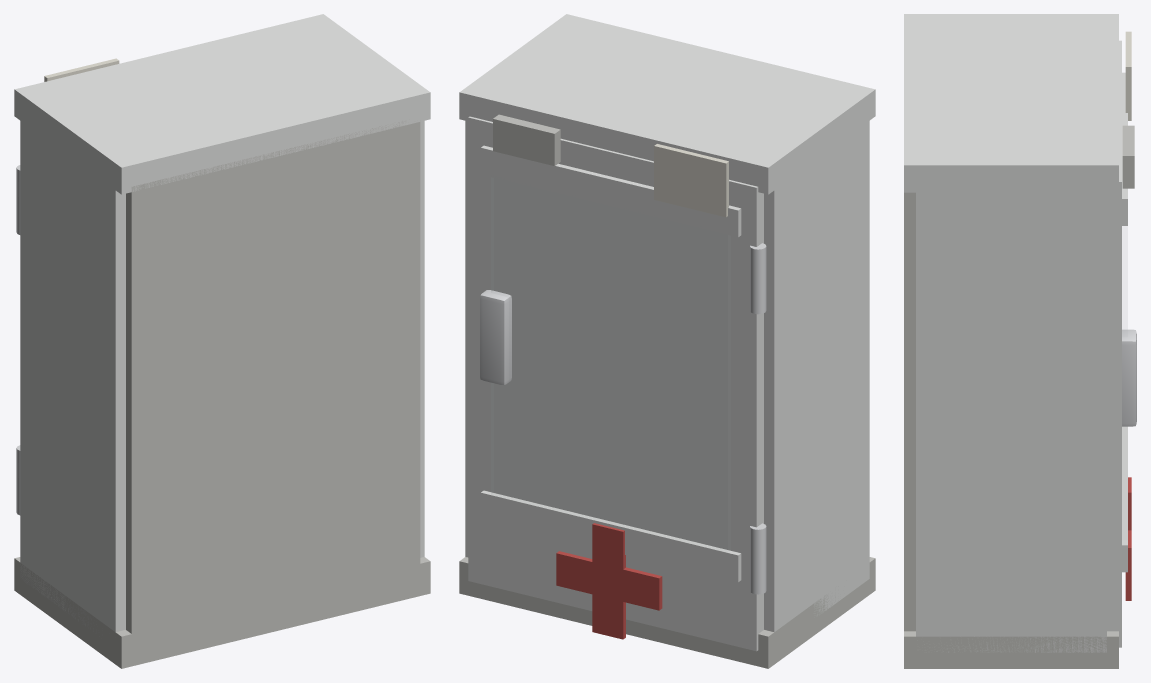
The model's file is PR_medical_cabinet.fbx.
3 renders of one model, left to right at view 1: azimuth 30°, elevation 25°; view 2: azimuth 150°, elevation 25°; view 3: azimuth 270°, elevation 25°, orthographic.
Parts seen in each view (by area): view 1: PR_medical_cabinet; view 2: PR_medical_cabinet; view 3: PR_medical_cabinet.
Boxes of the visible parts, x1,y1,x2,y2 form: PR_medical_cabinet: (14,14,430,668); PR_medical_cabinet: (459,14,875,668); PR_medical_cabinet: (904,14,1136,668).
Size of the model in its own units: 0.6 by 0.93 by 0.39.
